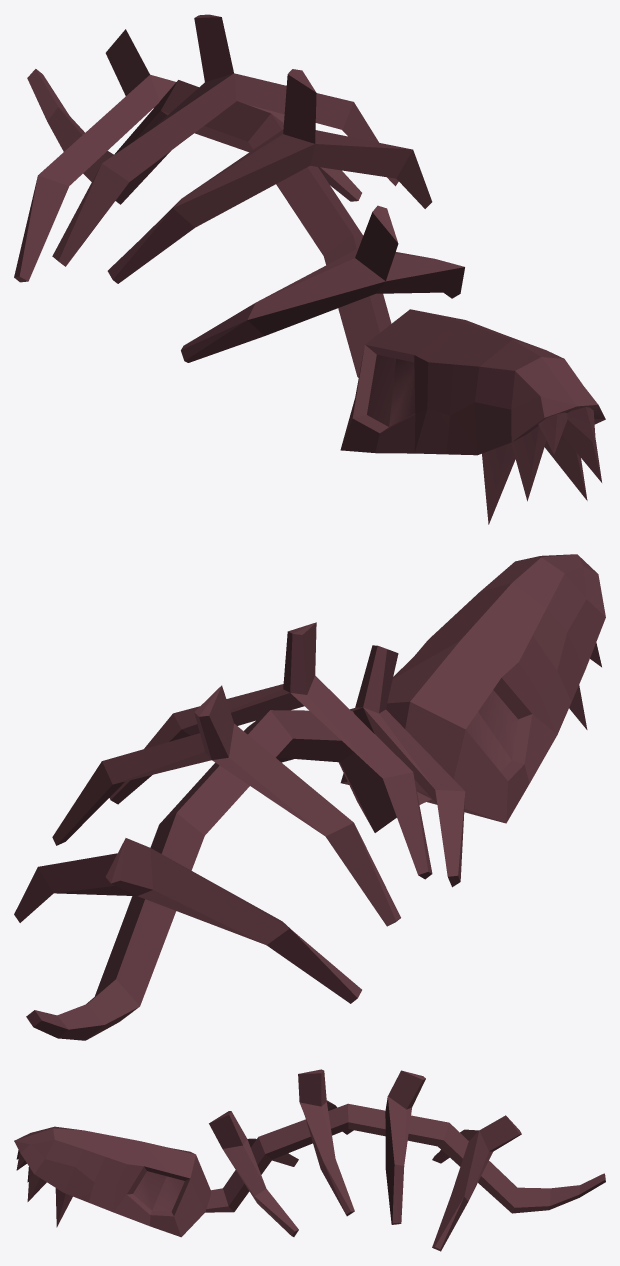
File: tribal-spine-trex.glb
The picture shows the model from 3 angles, top to bottom: view 1: azimuth 30°, elevation 25°; view 2: azimuth 150°, elevation 25°; view 3: azimuth 270°, elevation 25°; orthographic projection. The views are drawn at different scales.
Parts seen in each view (by area): view 1: SM_Spine_Trex; view 2: SM_Spine_Trex; view 3: SM_Spine_Trex.
Part boxes in pixels (x1=…): SM_Spine_Trex: x1=14, y1=14, x2=605, y2=524; SM_Spine_Trex: x1=14, y1=554, x2=605, y2=1040; SM_Spine_Trex: x1=14, y1=1069, x2=605, y2=1251.
Size of the model in its own units: 3.53 by 2.61 by 9.68.
